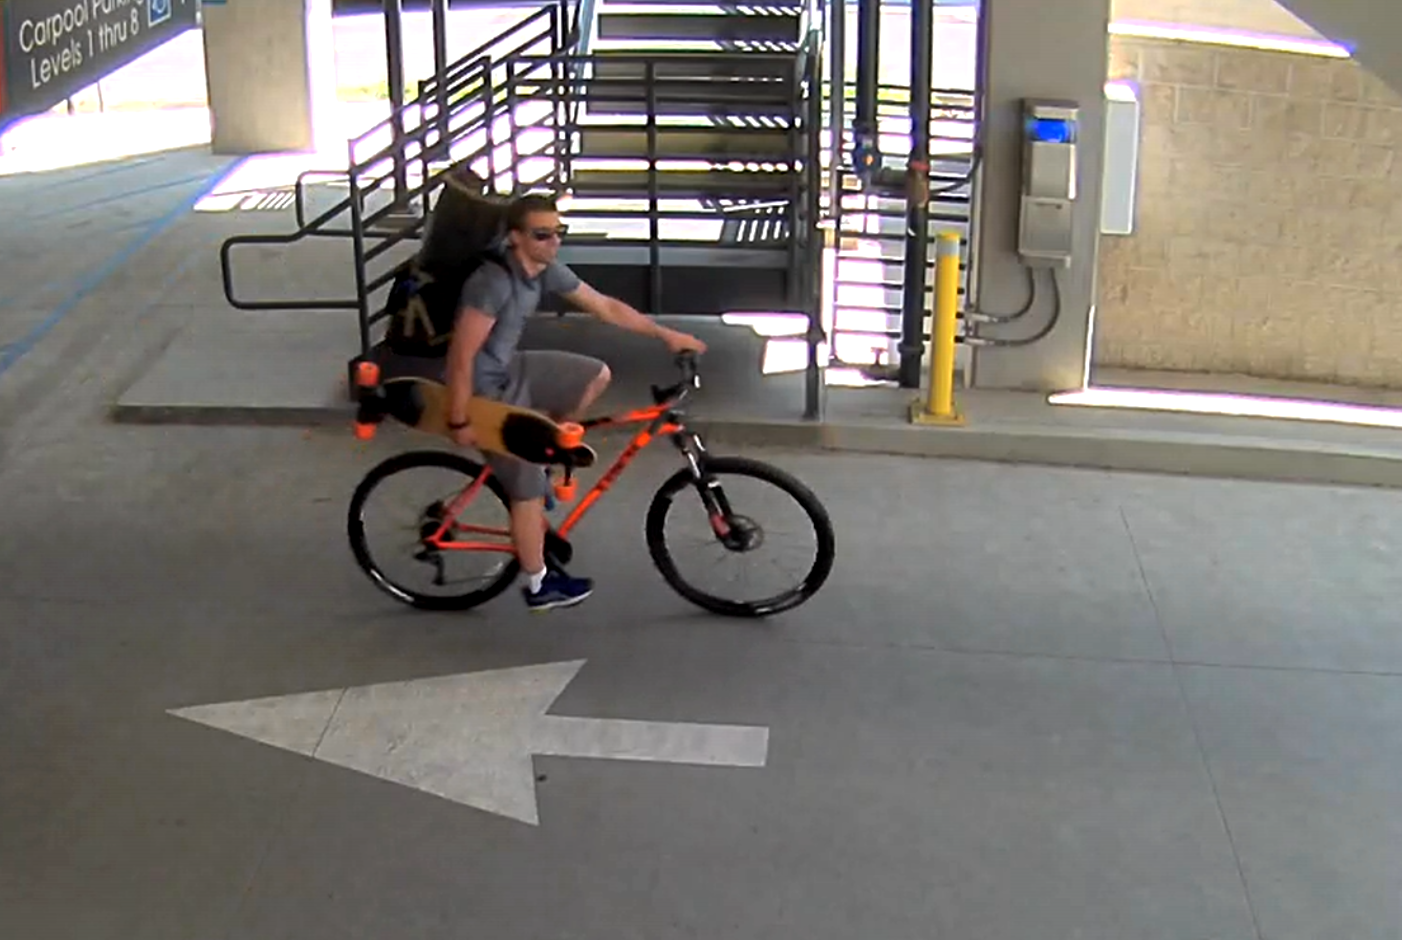person: (425, 161, 647, 473)
